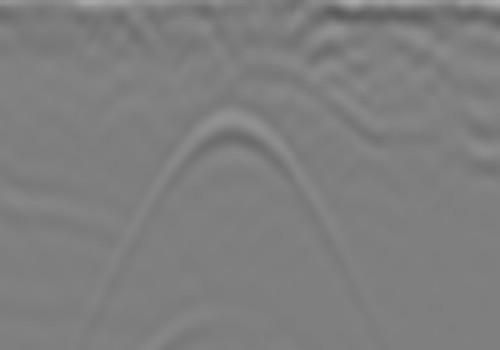Hyperbola: (58, 85, 398, 311)
